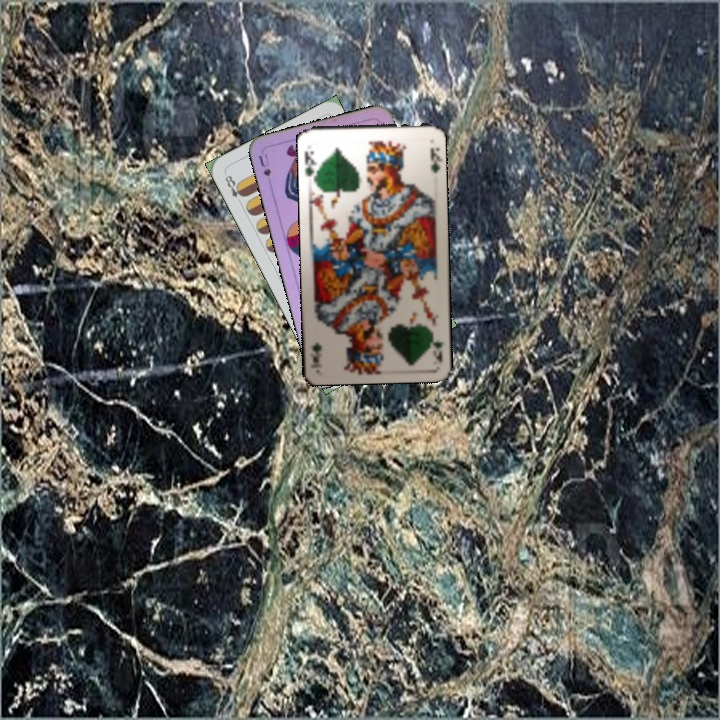E8: (221, 169, 247, 207)
GK: (426, 325, 446, 365), (301, 147, 321, 180)
SU: (255, 150, 273, 179)
